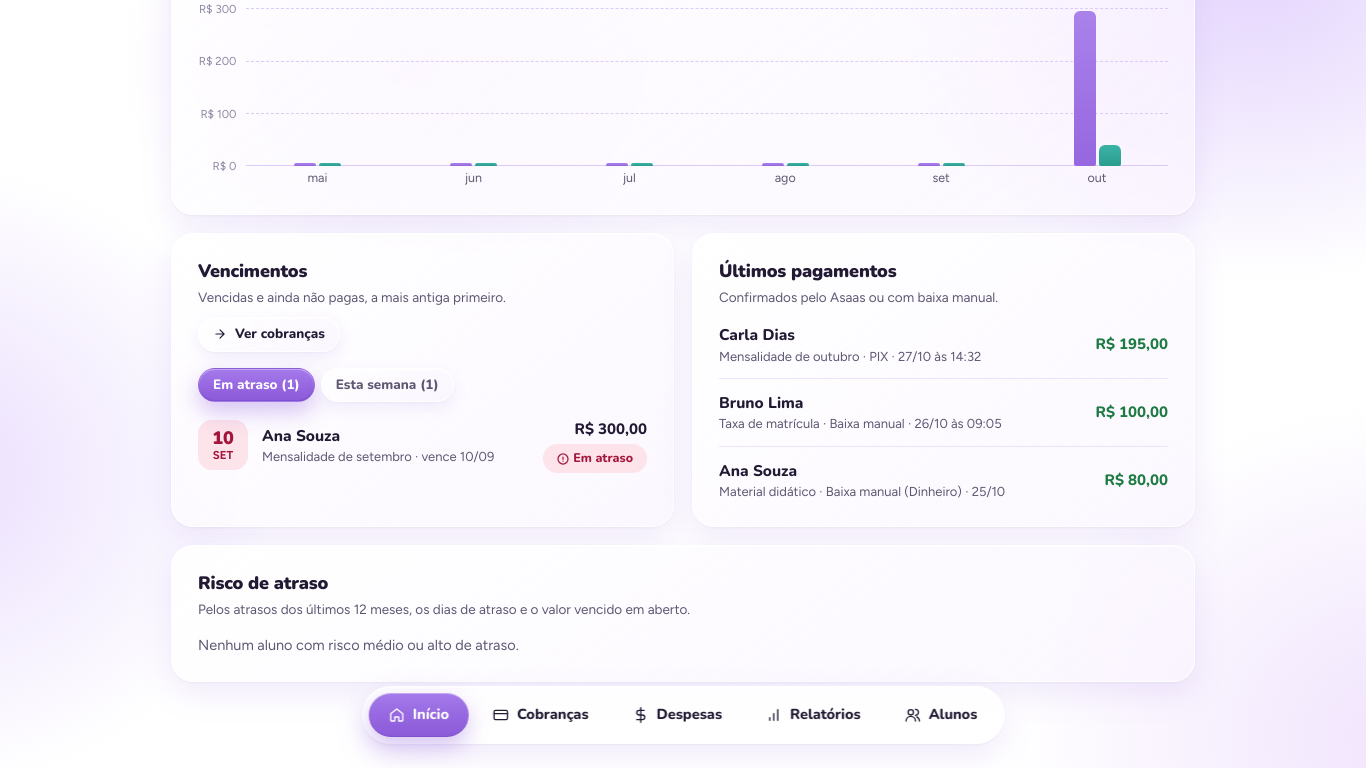
Scenario: Início do financeiro › mostra os totais do mês, o que vence na semana e os últimos pagamentos
(page scrolled)
Expected: the text "Ana Souza" below "Vencimentos" is shown, [262, 425, 340, 446]
Expected: the text "Em atraso" is shown, [543, 444, 647, 473]
What coordinates should you click on to do the following:
click the button "Esta semana (1)"
I would click on:
 (387, 385)
Its box is [321, 368, 454, 402].
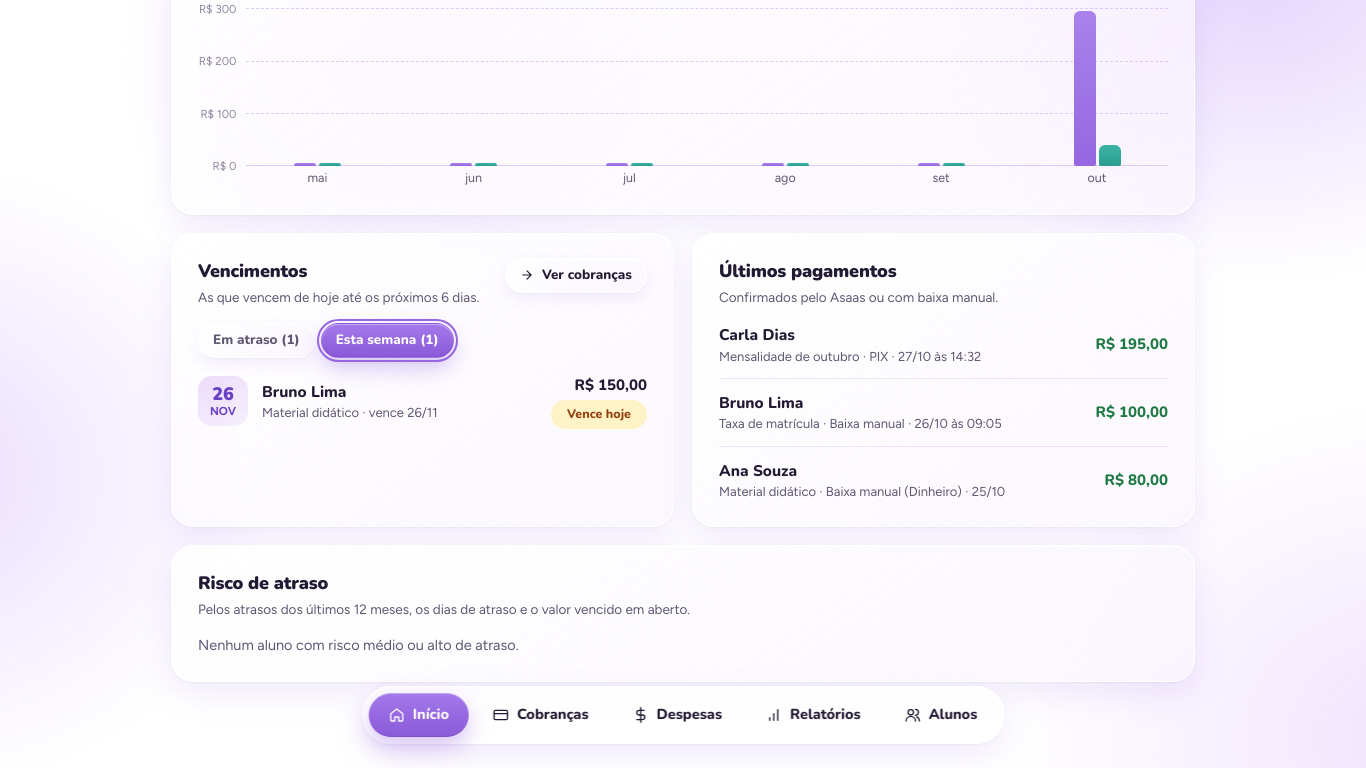
Expected: the text "Mensalidade de outubro · PIX · 27/10 às 14:32" is shown, [719, 349, 981, 364]
Result: the text "Bruno Lima" below "Vencimentos" is shown at [262, 381, 346, 402]
Result: the text "Vence hoje" is shown at [551, 400, 647, 429]
